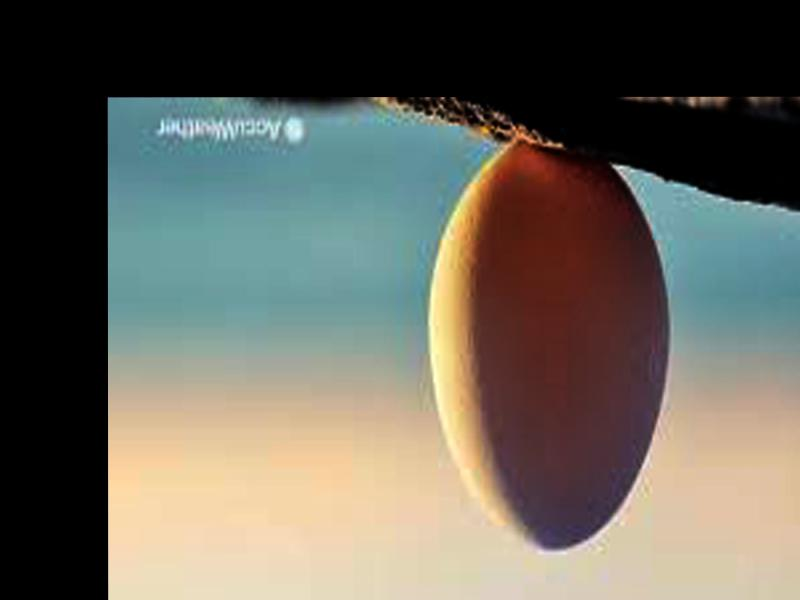Eggs: (427, 146, 670, 553)
